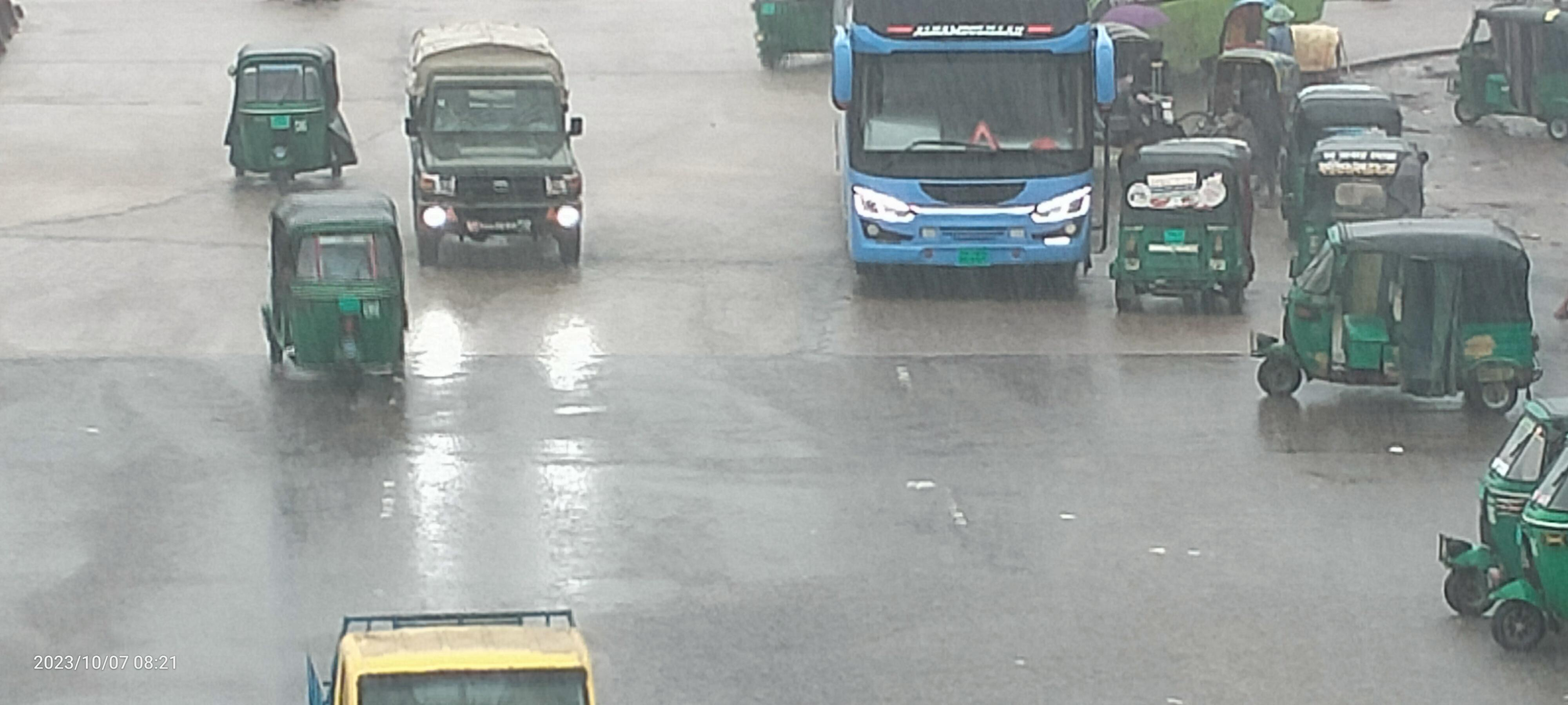Bus: (808, 0, 1142, 327)
Car: (389, 3, 607, 290)
Truck: (241, 572, 665, 705)
